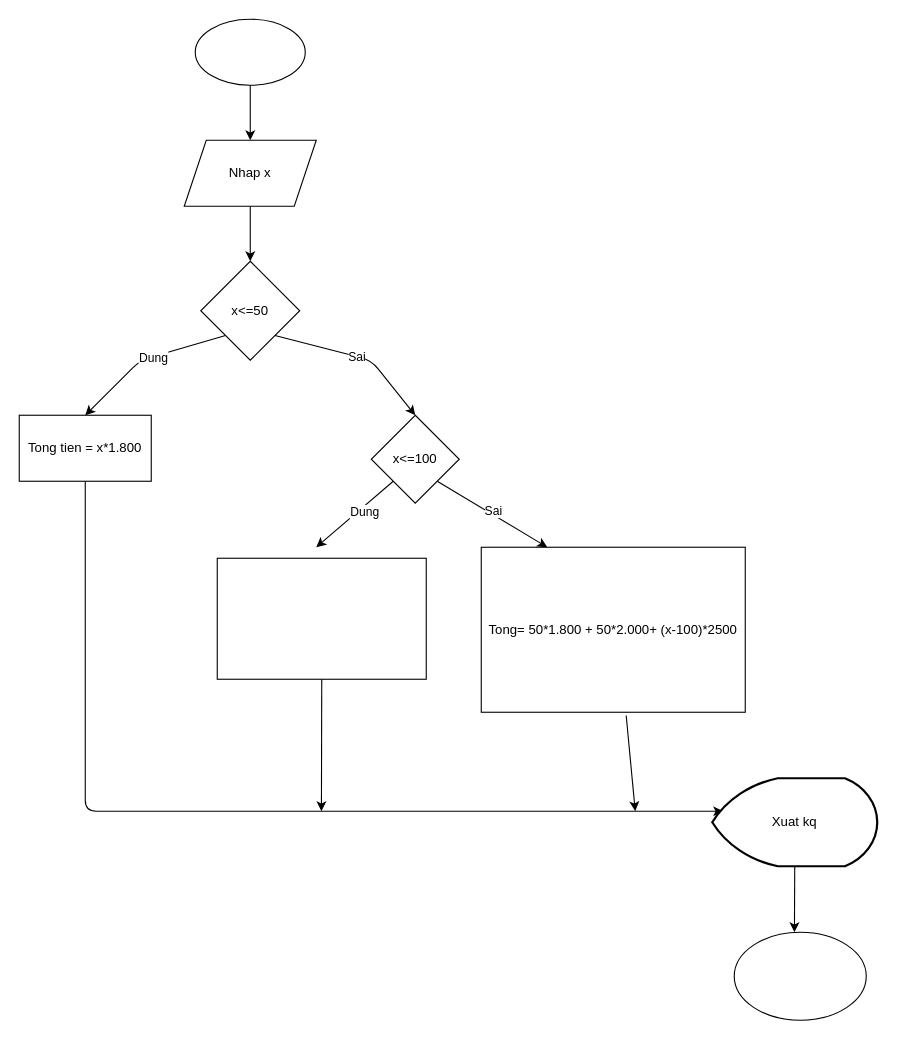
Image size: 898x1040. Some labels were removed from this diagram. The shapes that lost their labels are listed below. From the top down, each one's centre as x and y in pixels, then its label:
pixel 249 51: Start
pixel 321 618: Tong =50*1.800 + (x-50)*2.000
pixel 799 975: End
